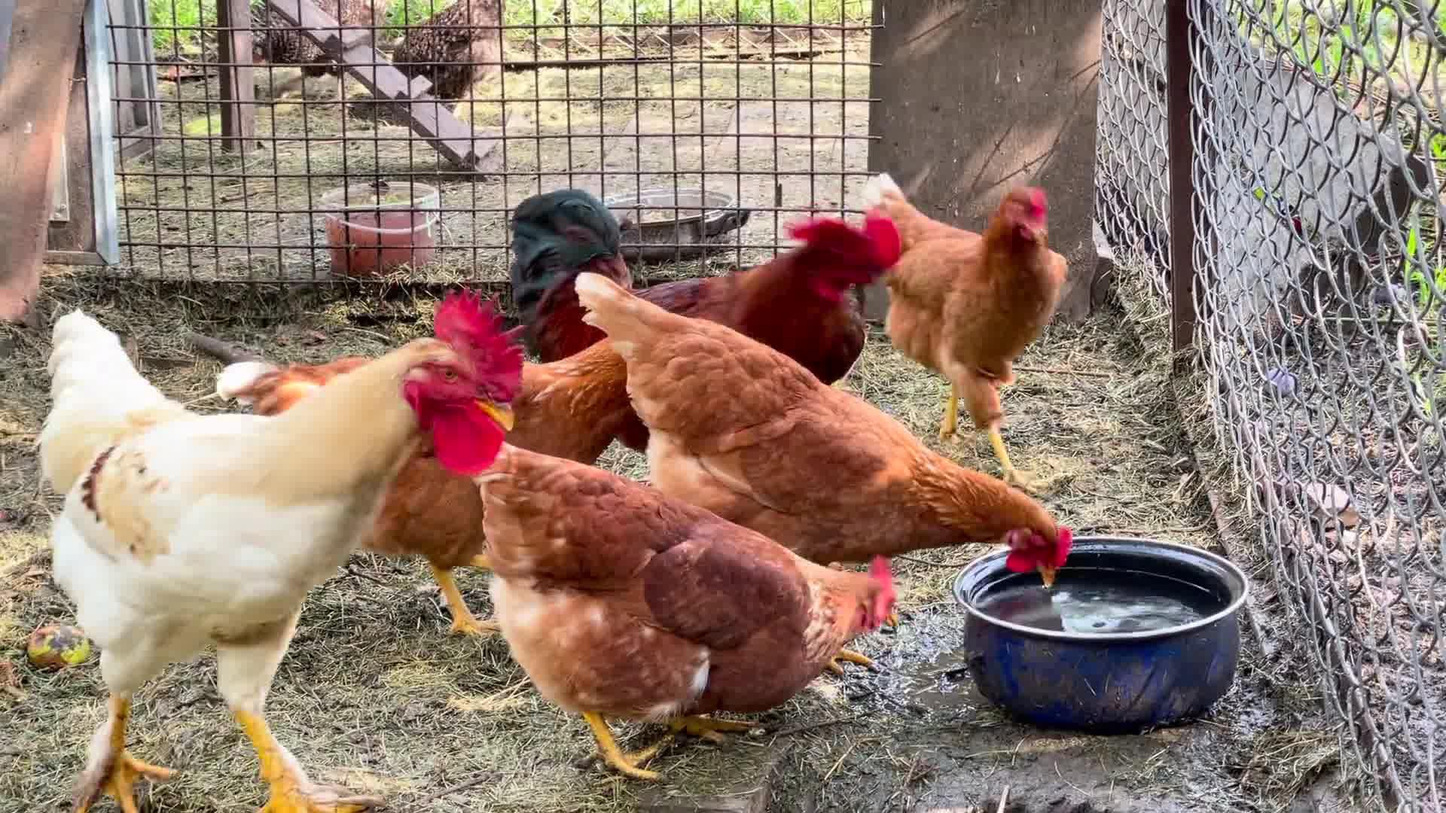Normal: (38, 273, 527, 813), (577, 266, 1076, 586), (486, 428, 911, 777), (509, 189, 947, 384), (866, 168, 1108, 503)
